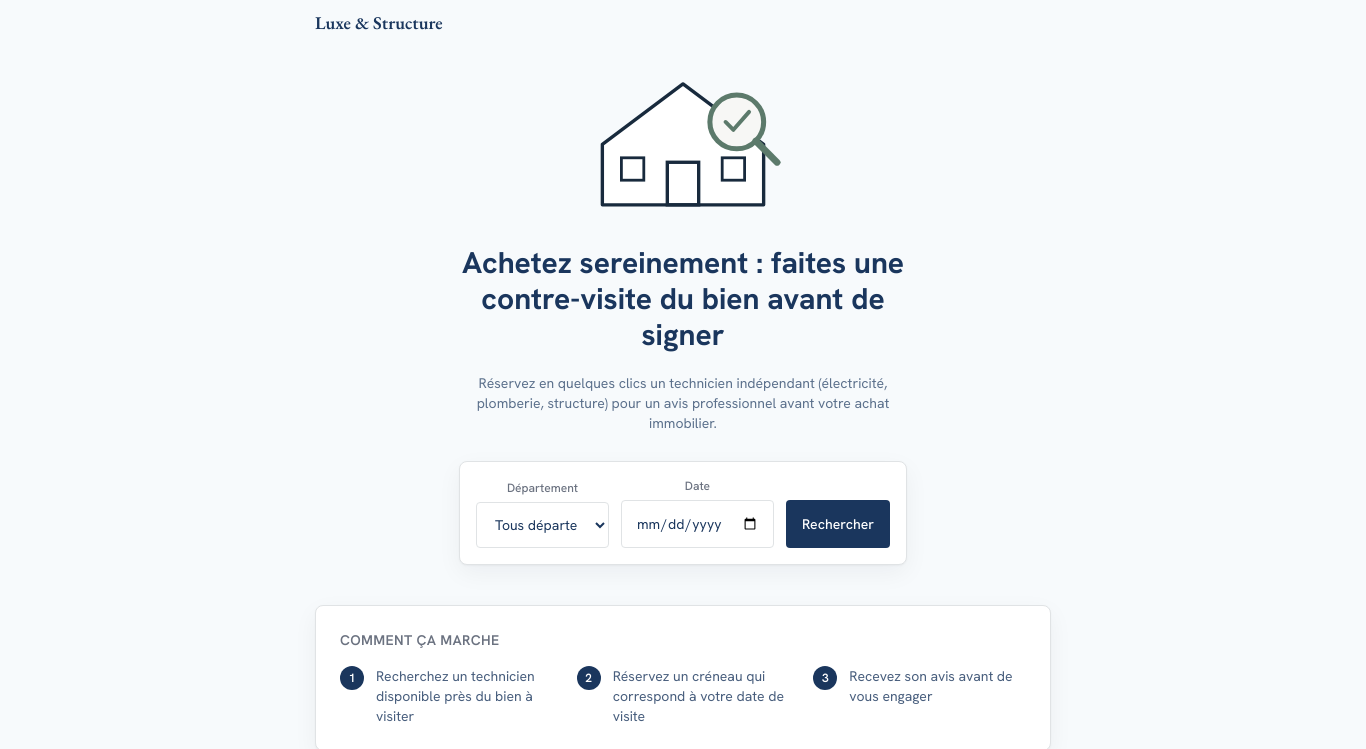
Scenario: Search — recherche et scroll infini › affiche les résultats de la première page après une recherche
The image size is (1366, 749).
What coordinates should you click on to do the following:
click the button "Rechercher"
I would click on:
 (838, 524)
Its box is [786,500,890,548].
(page scrolled)
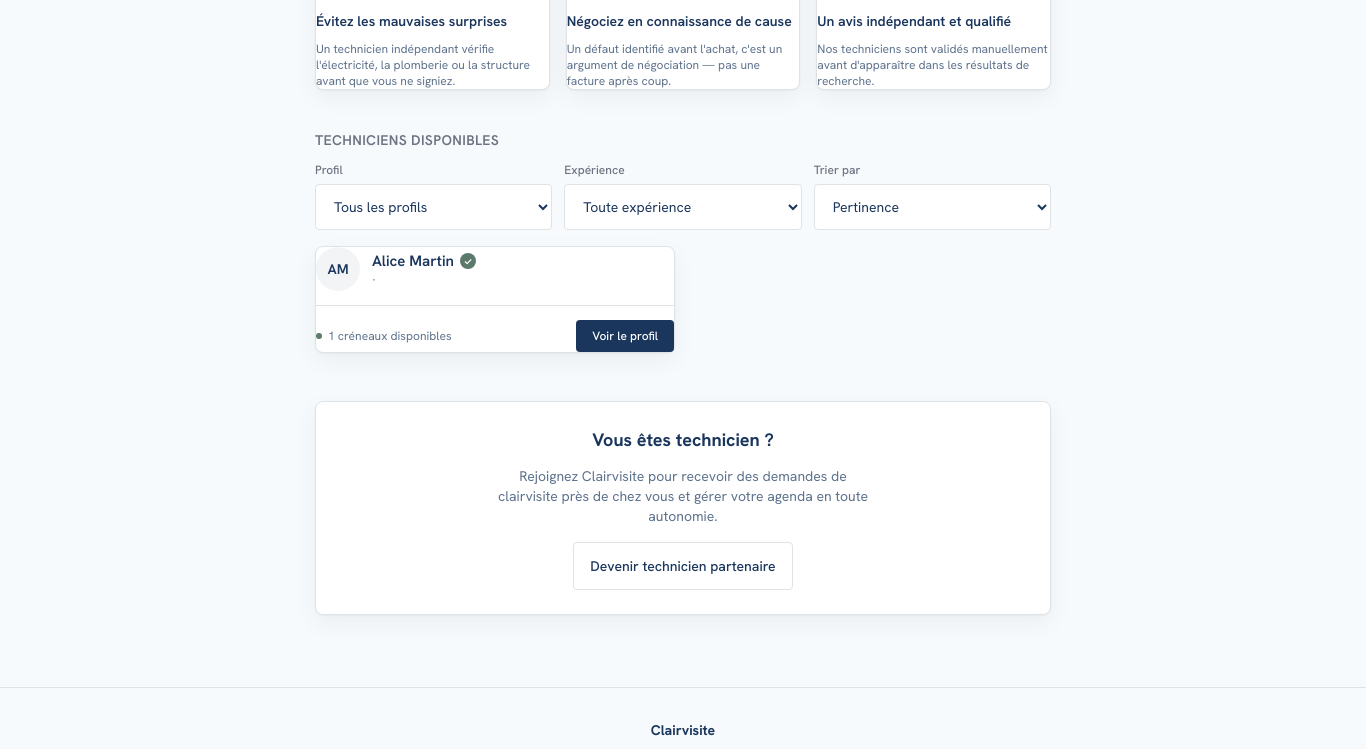
Expected: the text "Alice Martin ✓" is shown, [372,251,476,271]
